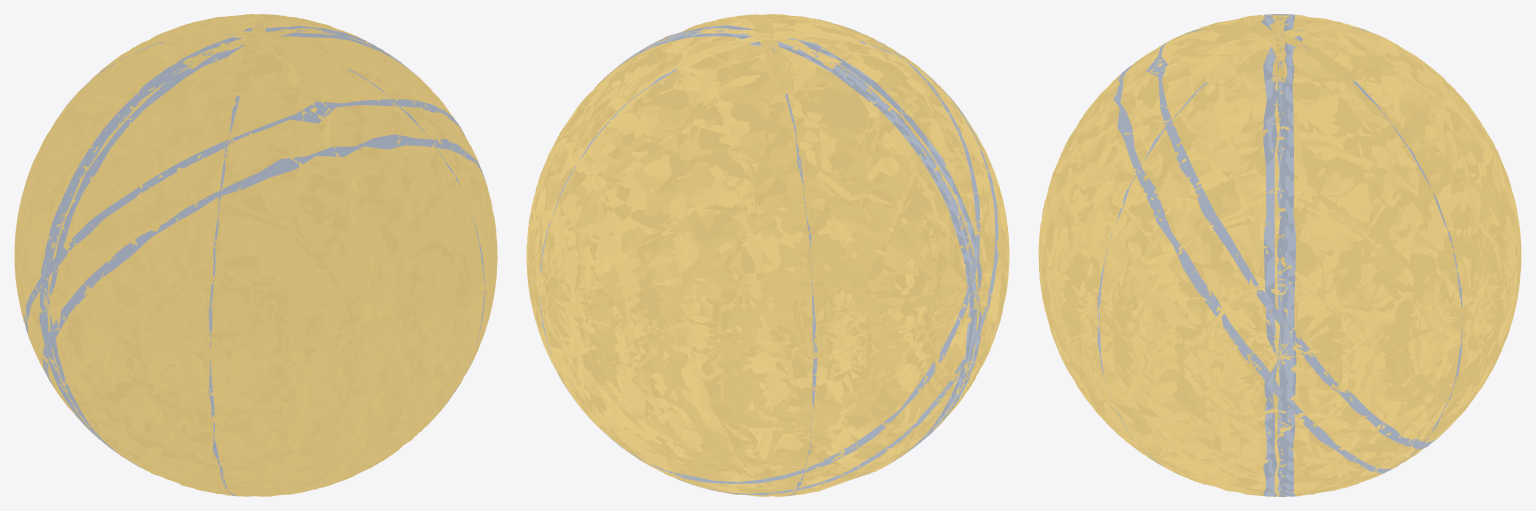
3 views of the same model, side by side, from view 1: azimuth 30°, elevation 25°; view 2: azimuth 150°, elevation 25°; view 3: azimuth 270°, elevation 25° (orthographic).
Visible parts, largest first — view 1: anodes, structure; view 2: anodes, structure; view 3: anodes, structure.
Boxes of the visible parts, <box> form: anodes: <box>14,14,497,496</box>; structure: <box>24,14,485,496</box>; anodes: <box>526,14,1009,496</box>; structure: <box>539,19,998,496</box>; anodes: <box>1038,14,1521,496</box>; structure: <box>1097,14,1462,496</box>.
Size of the model in its own units: 2 by 2 by 2.
